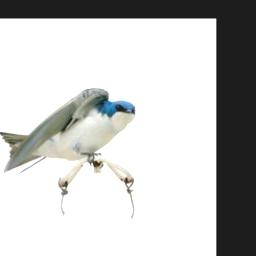Swallow: (0, 87, 137, 178)
